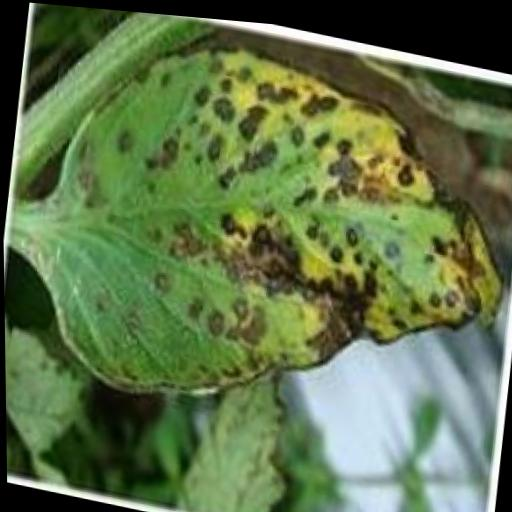Late Blight: (0, 0, 512, 472)
